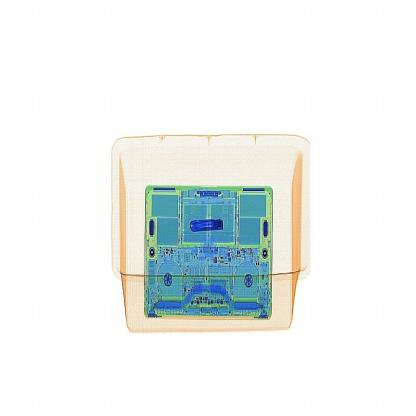knife: (182, 209, 232, 241)
